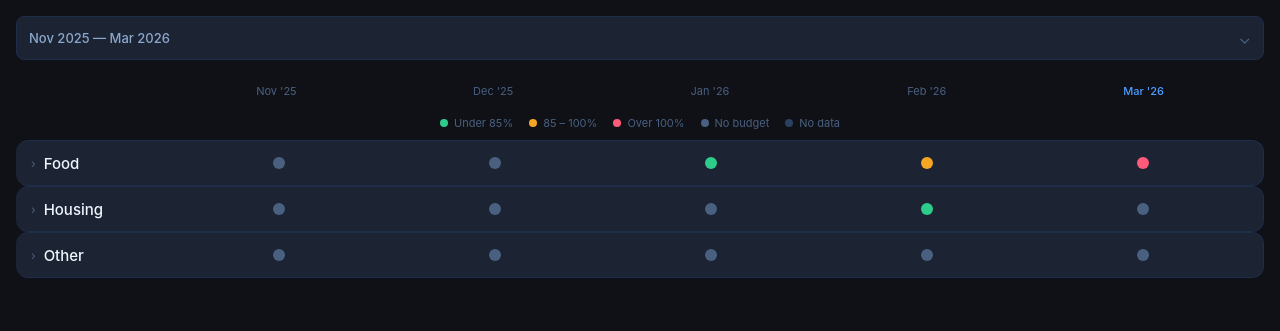
Test: HeatmapView › dot has correct aria-label for no-budget category
The width and height of the screenshot is (1280, 331).
Find the "Other" group and expand it
Click the element showing "› Other": (57, 255) [31,246,84,264]
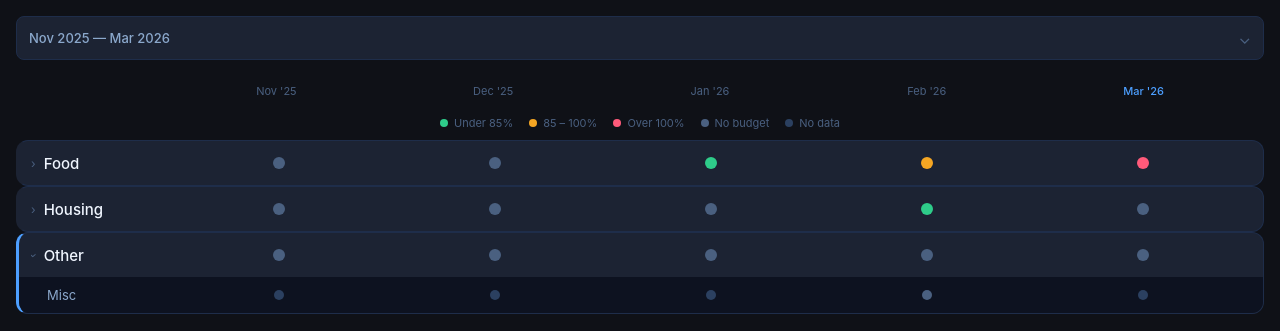
Now the element named "Misc, February 2026: $75 spent, no budget set" is shown, box [922,290,932,300]
